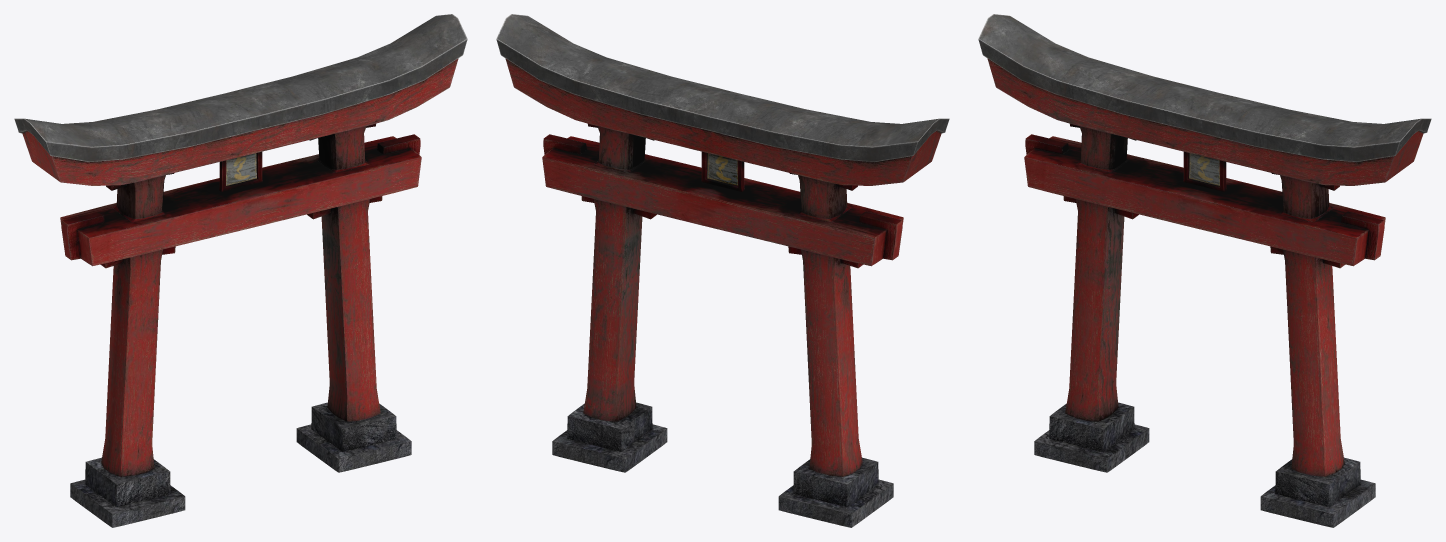
Rendered from sf-torii-7c4d9c.glb.
3 renders of one model, left to right at view 1: azimuth 30°, elevation 25°; view 2: azimuth 150°, elevation 25°; view 3: azimuth 330°, elevation 25°, orthographic.
Visible parts, largest first — view 1: tate1_defaultMat1_0; view 2: tate1_defaultMat1_0; view 3: tate1_defaultMat1_0.
Part boxes in pixels (bbox=[...]): tate1_defaultMat1_0: bbox=[14, 14, 467, 527]; tate1_defaultMat1_0: bbox=[496, 14, 949, 527]; tate1_defaultMat1_0: bbox=[978, 14, 1431, 527].
Size of the model in its own units: 142 by 129 by 24.3.
1 material, 1 textured.
